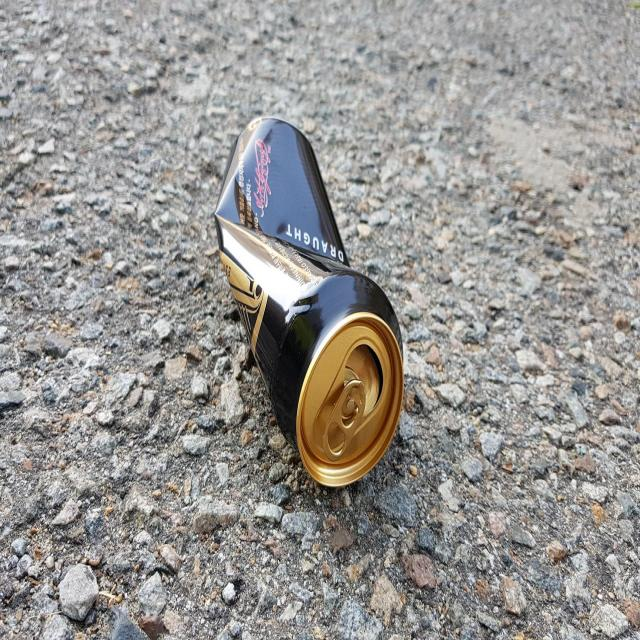can: (215, 116, 404, 486)
